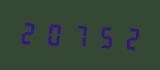five: (90, 20, 113, 51)
seven: (66, 19, 89, 50)
two: (18, 16, 41, 47), (114, 21, 137, 52)
zero: (42, 18, 65, 49)
